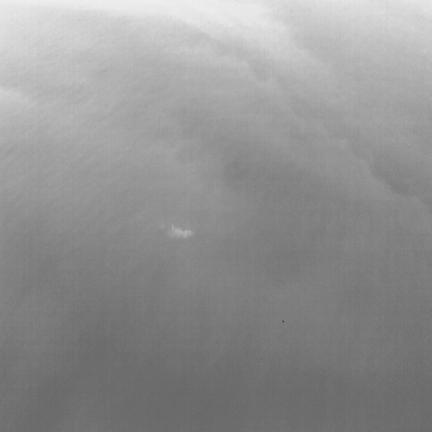flukeprints: (169, 224, 193, 238)
